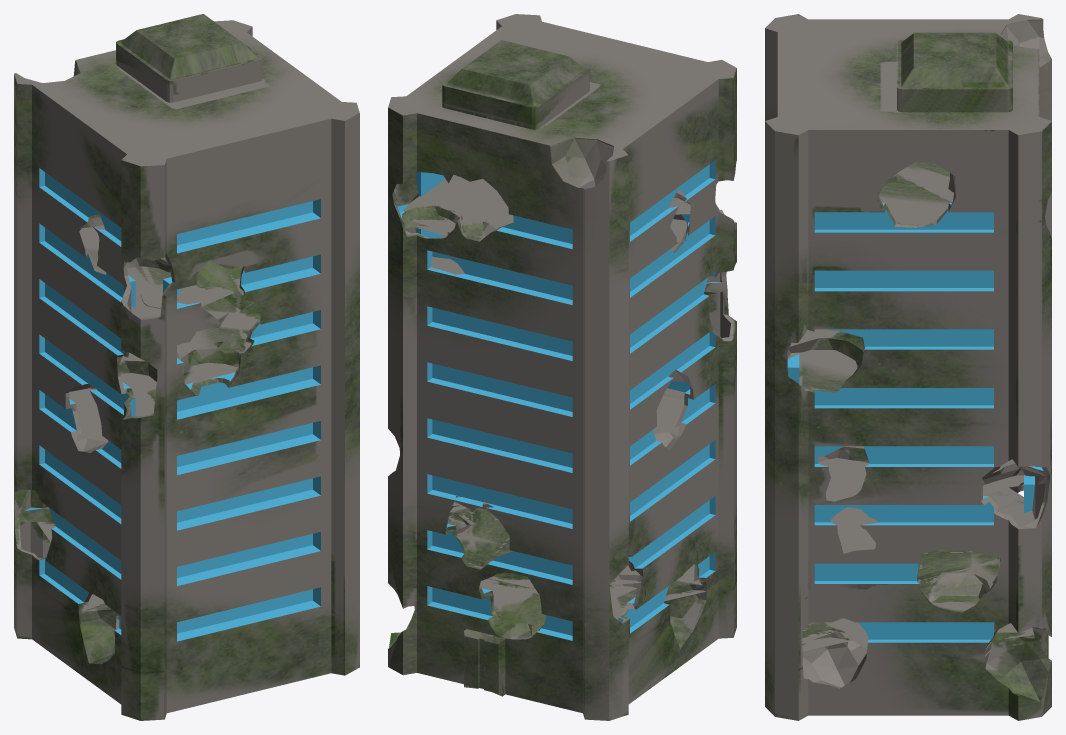
The model's file is buildings4.fbx.
3 views of the same model, side by side, from view 1: azimuth 30°, elevation 25°; view 2: azimuth 150°, elevation 25°; view 3: azimuth 270°, elevation 25° (orthographic). The views are drawn at different scales.
Parts seen in each view (by area): view 1: 3; view 2: 3; view 3: 3.
Part boxes in pixels (x1,y1,x2,y2): 3: (14, 14, 359, 720); 3: (388, 14, 736, 720); 3: (765, 14, 1051, 720).
Size of the model in its own units: 1884 by 4511 by 1884.
Materials: 2 (1 with a texture image).
